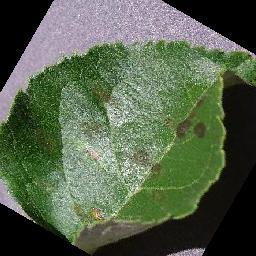apple healthy: (0, 37, 255, 253)
